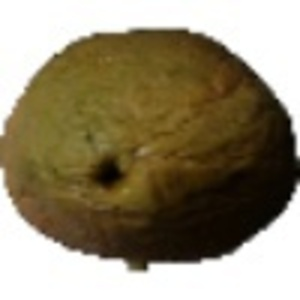mamão: (3, 22, 295, 261)
